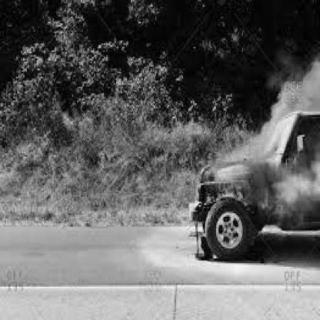Fire: (195, 175, 262, 228)
